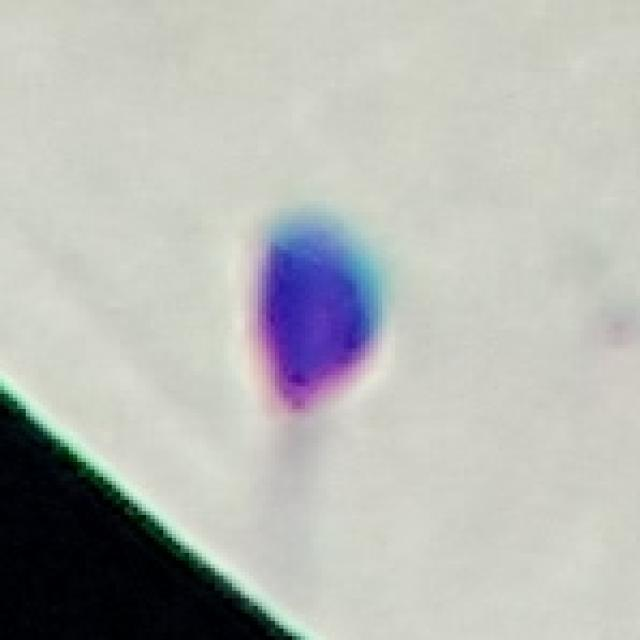normal sperm: (226, 194, 394, 547)
